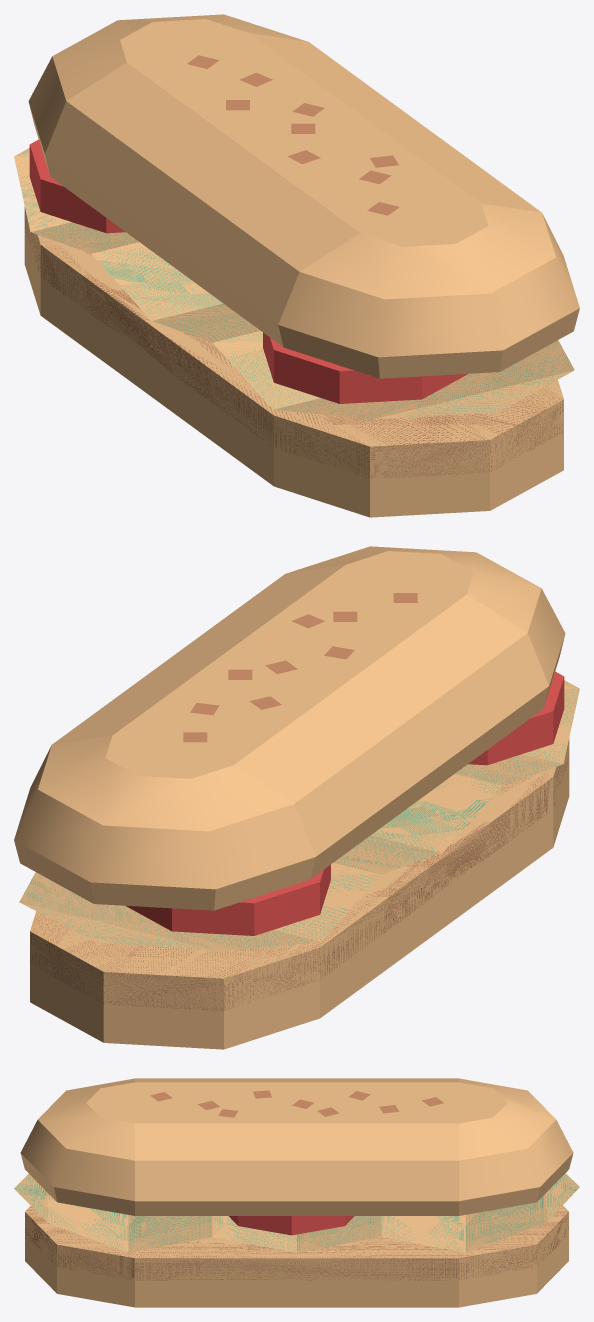
3 views of the same model, one above another, from view 1: azimuth 30°, elevation 25°; view 2: azimuth 150°, elevation 25°; view 3: azimuth 270°, elevation 25° (orthographic). The views are drawn at different scales.
Parts seen in each view (by area): view 1: sub, meat, lettuce, tomaties; view 2: sub, meat, lettuce, tomaties; view 3: sub, meat, lettuce, Group.
Part boxes in pixels (<box>): sub: <box>24,14,579,517</box>; meat: <box>24,206,563,479</box>; lettuce: <box>14,148,574,419</box>; tomaties: <box>29,139,468,403</box>; sub: <box>14,546,569,1049</box>; meat: <box>30,738,569,1011</box>; lettuce: <box>19,680,579,951</box>; tomaties: <box>125,671,564,935</box>; sub: <box>20,1078,573,1307</box>; meat: <box>25,1205,568,1280</box>; lettuce: <box>14,1173,579,1252</box>; Group: <box>229,1216,354,1235</box>.
Bounding box in the file's own units: 0.2827 × 0.2125 × 0.6756.
